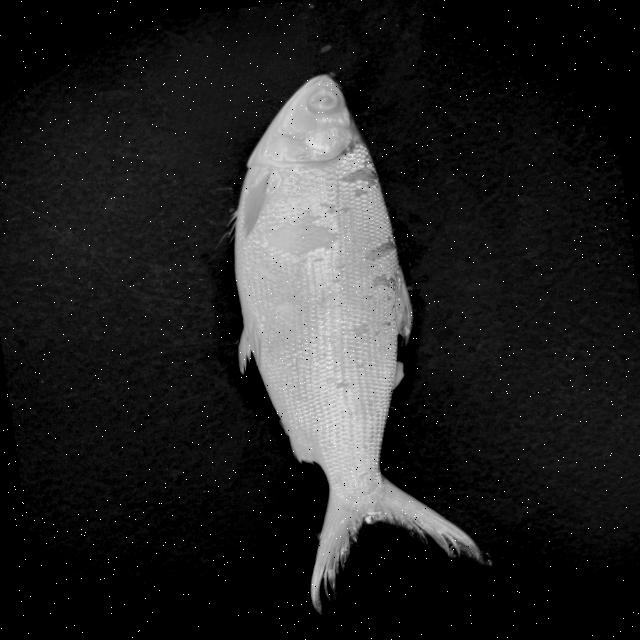815 g: (200, 63, 484, 622)
